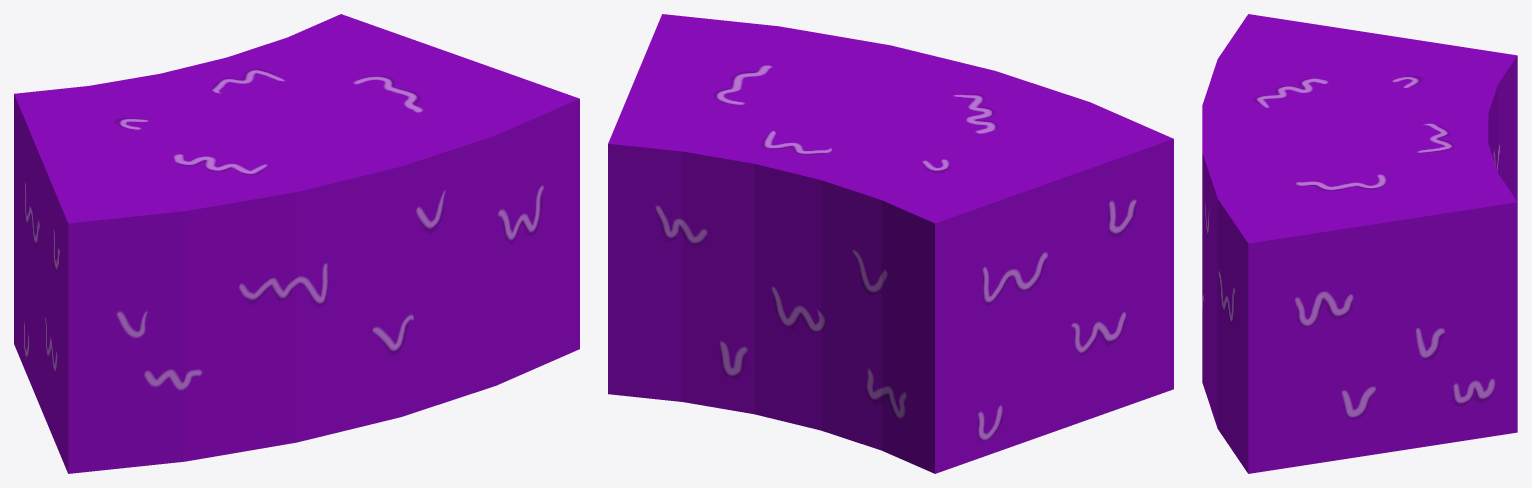
File: yuka_gaisyu.fbx
3 renders of one model, left to right at view 1: azimuth 30°, elevation 25°; view 2: azimuth 150°, elevation 25°; view 3: azimuth 270°, elevation 25°, orthographic. The views are drawn at different scales.
Visible parts, largest first — view 1: Cylinder.001; view 2: Cylinder.001; view 3: Cylinder.001.
Boxes of the visible parts, x1,y1,x2,y2 form: Cylinder.001: (14, 14, 579, 473); Cylinder.001: (608, 14, 1173, 473); Cylinder.001: (1202, 14, 1517, 473).
Bounding box in the file's own units: 1710 × 800 × 992.
